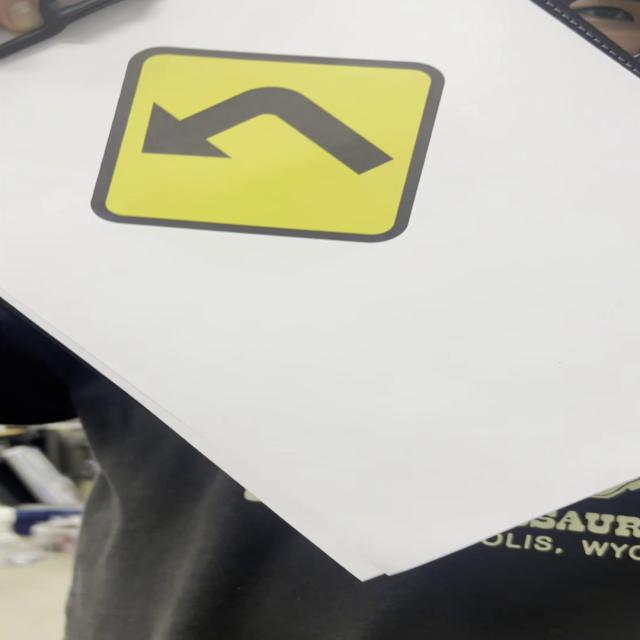left: (90, 51, 446, 243)
